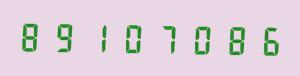eight: (17, 17, 49, 54), (215, 21, 247, 57)
nine: (50, 18, 82, 54)
one: (83, 18, 115, 55)
seven: (149, 19, 181, 56)
six: (248, 21, 280, 58)
zero: (182, 20, 214, 57), (116, 19, 148, 55)
